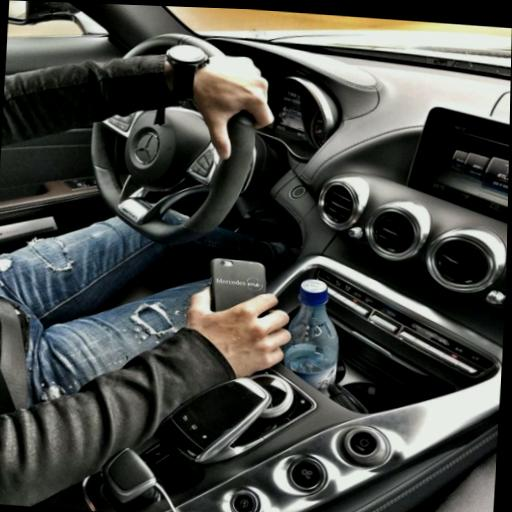Hands-on-the-Wheel: (126, 33, 329, 180)
